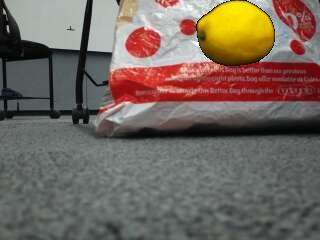lemon: (198, 4, 273, 67)
